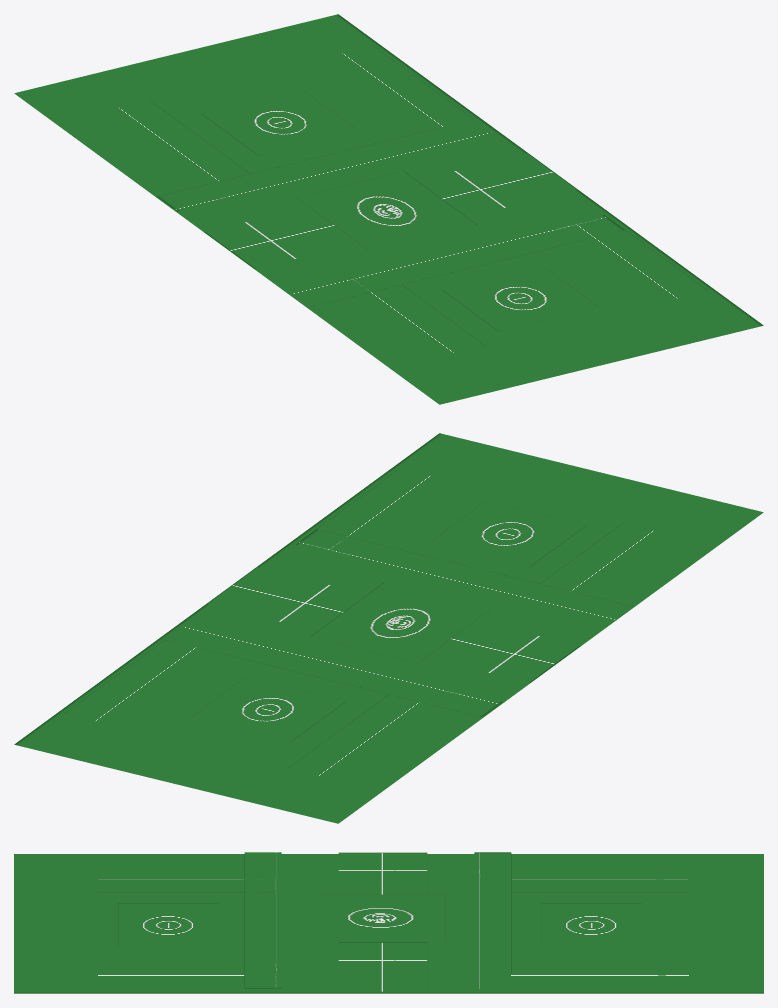
The model's file is Field (1).fbx.
3 renders of one model, top to bottom at view 1: azimuth 30°, elevation 25°; view 2: azimuth 150°, elevation 25°; view 3: azimuth 270°, elevation 25°, orthographic. The views are drawn at different scales.
Visible parts, largest first — view 1: Plane.003, Plane.008, Plane.007, Plane.006, Plane.010, Plane.002, Plane.009, Plane.005, Plane.004, Plane.001, Plane.013, Plane.014; view 2: Plane.003, Plane.008, Plane.006, Plane.007, Plane.010, Plane.002, Plane.009, Plane.005, Plane.004, Plane.001, Plane.013, Plane.014; view 3: Plane.003, Plane.008, Plane.006, Plane.007, Plane.009, Plane.002, Plane.010, Plane.005, Plane.001, Plane.004, Plane.014, Plane.013.
Boxes of the visible parts, x1,y1,x2,y2 form: Plane.003: (14, 14, 763, 404); Plane.008: (296, 171, 477, 251); Plane.007: (157, 119, 494, 211); Plane.006: (287, 215, 624, 307); Plane.010: (442, 265, 598, 331); Plane.002: (202, 89, 358, 155); Plane.009: (417, 153, 577, 216); Plane.005: (204, 206, 358, 268); Plane.004: (337, 45, 473, 128); Plane.001: (113, 100, 249, 182); Plane.013: (571, 217, 707, 299); Plane.014: (348, 278, 484, 354); Plane.003: (14, 433, 763, 823); Plane.008: (310, 583, 490, 662); Plane.006: (296, 529, 632, 621); Plane.007: (166, 624, 502, 716); Plane.010: (429, 501, 586, 567); Plane.002: (189, 677, 345, 742); Plane.009: (207, 567, 367, 630); Plane.005: (426, 620, 580, 682); Plane.004: (64, 640, 201, 722); Plane.001: (288, 694, 424, 776); Plane.013: (299, 468, 435, 550); Plane.014: (527, 523, 658, 594); Plane.003: (14, 854, 763, 993); Plane.008: (315, 894, 445, 940); Plane.006: (244, 852, 281, 988); Plane.007: (474, 852, 511, 988); Plane.009: (338, 942, 427, 991); Plane.002: (541, 903, 641, 946); Plane.010: (118, 903, 218, 946); Plane.005: (338, 852, 427, 894); Plane.001: (511, 877, 688, 892); Plane.004: (511, 973, 688, 988); Plane.014: (98, 877, 275, 892); Plane.013: (98, 973, 275, 988).
Bounding box in the file's own units: 1322 × 13.33 × 2996.
Materials: 12 (12 with a texture image).
